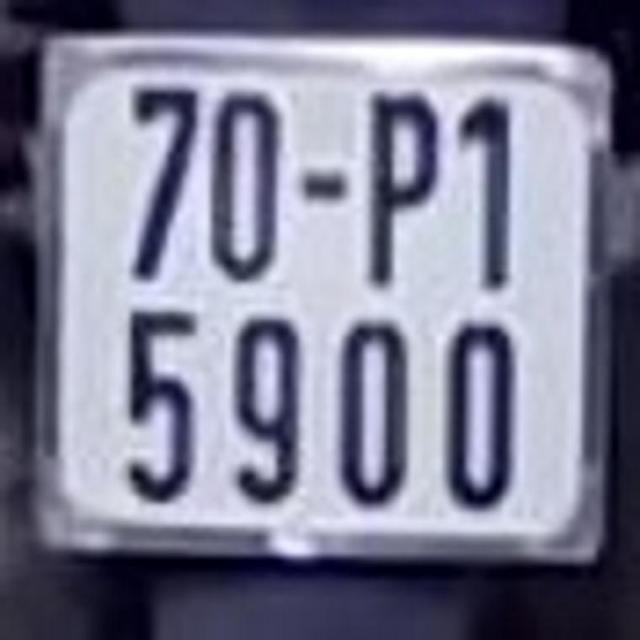0: (202, 72, 281, 286), (442, 313, 520, 513), (336, 306, 410, 511)
1: (455, 79, 520, 292)
5: (114, 303, 203, 507)
7: (123, 79, 200, 283)
9: (232, 304, 308, 507)
P: (365, 80, 443, 289)
